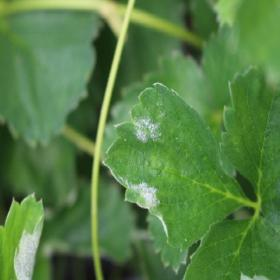Powdery Mildew Leaf: (100, 82, 249, 253), (0, 191, 45, 279)
